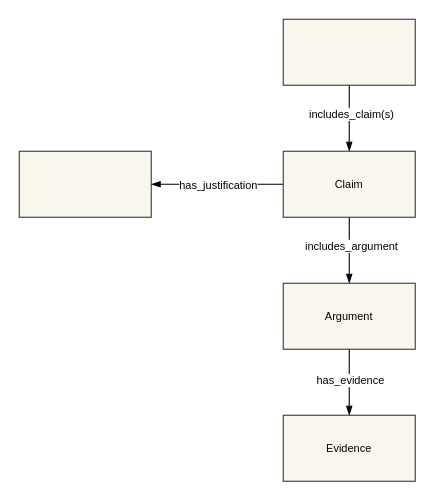
Some shapes in this 435 by 501 pixel diagram are drawn without their labels. Here are the shapes that lost their labels. From the top down, the centre of each, then its label:
(348,51): Assurance Case
(84,183): Justification
